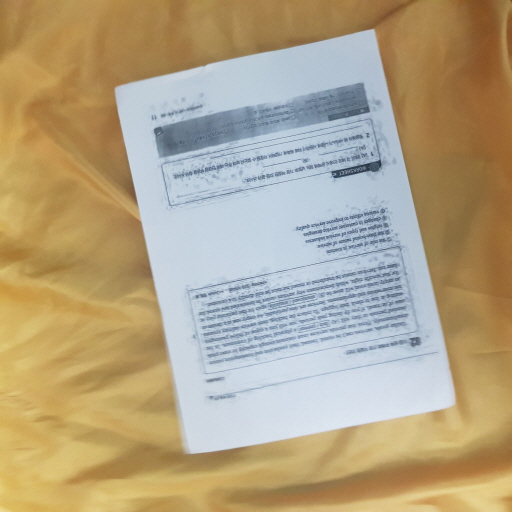Paper_2: (107, 27, 472, 460)
